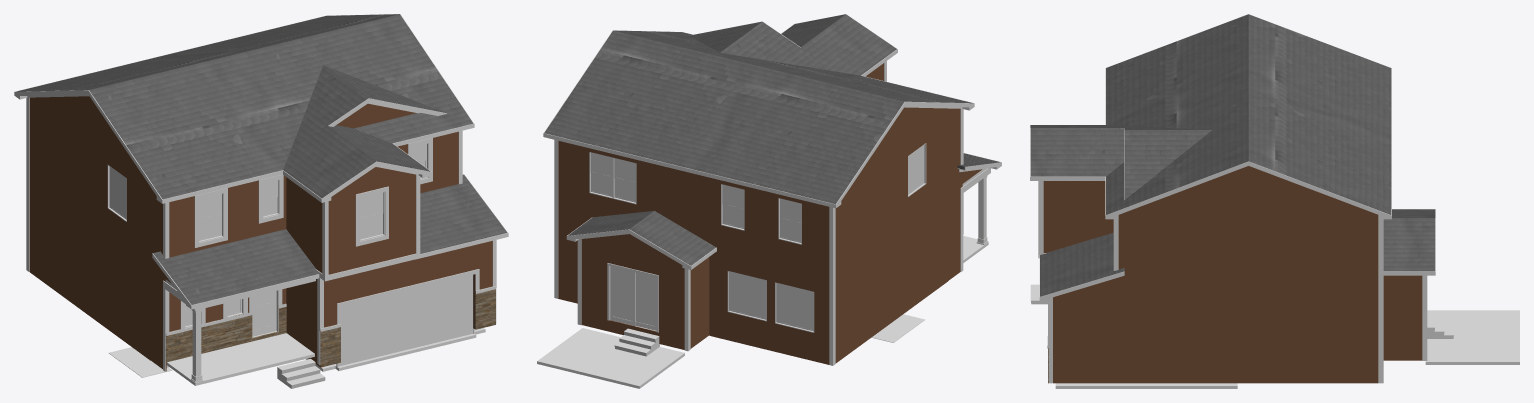
File: 235-1791-dm-traditional.glb
The picture shows the model from 3 angles, left to right: view 1: azimuth 30°, elevation 25°; view 2: azimuth 150°, elevation 25°; view 3: azimuth 270°, elevation 25°; orthographic projection. The views are drawn at different scales.
Visible parts, largest first — view 1: Basic Roof Wood Rafter 4" - Asphalt Shingle - Insulated_f643, Basic Wall BSB Exterior - Stud_3.5" - Sheathing_0.5" - _47e7, Basic Wall BSB Exterior - Stud_3.5" - Sheathing_0.5" - _ea36, BSB Exterior - Overhead Garage Door OGD - 16070 - Flush_84bb, Basic Roof Wood Rafter 4" - Asphalt Shingle - Insulated_5d0a, Basic Wall BSB Exterior - Stud_3.5" - Sheathing_0.5" - _5000, Basic Wall BSB Exterior - Stud_3.5" - Sheathing_0.5" - _244a, Basic Roof Wood Rafter 4" - Asphalt Shingle - Insulated_563c, Basic Wall BSB Exterior - Stud_3.5" - Sheathing_0.5" - _d862, Floor BSB Concrete Slab - 4" - Slope Option [4870198], Fascia Fascia-Flat 1x6 w/12" Soffit Bd [4993654], Trim - Corner Boards Trim - Corner Boards [4946476] (+28 smaller); view 2: Basic Roof Wood Rafter 4" - Asphalt Shingle - Insulated_f643, Basic Wall BSB Exterior - Stud_3.5" - Sheathing_0.5" - _07f2, Basic Wall BSB Exterior - Stud_3.5" - Sheathing_0.5" - _47e7, Basic Wall BSB Exterior - Stud_3.5" - Sheathing_0.5" - _ea36, Basic Wall BSB Exterior - Stud_3.5" - Sheathing_0.5" - _2d23, Basic Wall BSB Exterior - Stud_3.5" - Sheathing_0.5" - _a9b3, Floor BSB Concrete Slab - 4" - Slope Option [4913895], Trim - Corner Boards Trim - Corner Boards [4946476], Basic Roof Wood Rafter 4" - Asphalt Shingle - Insulated_96e2, BSB Exterior - SGD XO - 1-Lite 6068 [4874971], Fascia Fascia-Flat 1x6 w/12" Soffit Bd [4993654], Basic Roof Wood Rafter 4" - Asphalt Shingle - Insulated_8d6c (+17 smaller); view 3: Basic Roof Wood Rafter 4" - Asphalt Shingle - Insulated_f643, Basic Wall BSB Exterior - Stud_3.5" - Sheathing_0.5" - _c07a, Basic Wall BSB Exterior - Stud_3.5" - Sheathing_0.5" - _a325, Basic Wall BSB Exterior - Stud_3.5" - Sheathing_0.5" - _9540, Basic Wall BSB Exterior - Stud_3.5" - Sheathing_0.5" - _108d, Basic Wall BSB Exterior - Stud_1.5" - Sheathing_0.5" - _c5eb, Floor BSB Concrete Slab - 4" - Slope Option [4913895], Basic Wall BSB Exterior - Stud_3.5" - Sheathing_0.5" - _d08e, Basic Wall BSB Exterior - Stud_3.5" - Sheathing_0.5" - _6b2a, Basic Roof Wood Rafter 4" - Asphalt Shingle - Insulated_8d6c, Basic Roof Wood Rafter 4" - Asphalt Shingle - Insulated_96e2, Basic Roof Wood Rafter 4" - Asphalt Shingle - Insulated_563c (+7 smaller).
Part boxes in pixels (x1,y1,x2,y2): Basic Roof Wood Rafter 4" - Asphalt Shingle - Insulated_f643: (16, 14, 473, 199); Basic Wall BSB Exterior - Stud_3.5" - Sheathing_0.5" - _47e7: (29, 180, 150, 360); Basic Wall BSB Exterior - Stud_3.5" - Sheathing_0.5" - _ea36: (29, 98, 150, 267); BSB Exterior - Overhead Garage Door OGD - 16070 - Flush_84bb: (336, 275, 474, 366); Basic Roof Wood Rafter 4" - Asphalt Shingle - Insulated_5d0a: (153, 229, 318, 304); Basic Wall BSB Exterior - Stud_3.5" - Sheathing_0.5" - _5000: (328, 167, 415, 274); Basic Wall BSB Exterior - Stud_3.5" - Sheathing_0.5" - _244a: (318, 241, 492, 366); Basic Roof Wood Rafter 4" - Asphalt Shingle - Insulated_563c: (420, 174, 507, 253); Basic Wall BSB Exterior - Stud_3.5" - Sheathing_0.5" - _d862: (169, 175, 286, 257); Floor BSB Concrete Slab - 4" - Slope Option [4870198]: (166, 333, 314, 385); Fascia Fascia-Flat 1x6 w/12" Soffit Bd [4993654]: (15, 14, 473, 203); Trim - Corner Boards Trim - Corner Boards [4946476]: (26, 97, 496, 371); Basic Roof Wood Rafter 4" - Asphalt Shingle - Insulated_f643: (544, 14, 972, 204); Basic Wall BSB Exterior - Stud_3.5" - Sheathing_0.5" - _07f2: (558, 140, 829, 277); Basic Wall BSB Exterior - Stud_3.5" - Sheathing_0.5" - _47e7: (835, 195, 948, 363); Basic Wall BSB Exterior - Stud_3.5" - Sheathing_0.5" - _ea36: (835, 118, 948, 276); Basic Wall BSB Exterior - Stud_3.5" - Sheathing_0.5" - _2d23: (709, 251, 829, 364); Basic Wall BSB Exterior - Stud_3.5" - Sheathing_0.5" - _a9b3: (581, 239, 684, 349); Floor BSB Concrete Slab - 4" - Slope Option [4913895]: (537, 328, 684, 388); Trim - Corner Boards Trim - Corner Boards [4946476]: (554, 61, 963, 365); Basic Roof Wood Rafter 4" - Asphalt Shingle - Insulated_96e2: (568, 211, 715, 265); BSB Exterior - SGD XO - 1-Lite 6068 [4874971]: (607, 263, 658, 332); Fascia Fascia-Flat 1x6 w/12" Soffit Bd [4993654]: (543, 14, 973, 207); Basic Roof Wood Rafter 4" - Asphalt Shingle - Insulated_8d6c: (689, 21, 799, 62); Basic Roof Wood Rafter 4" - Asphalt Shingle - Insulated_f643: (1030, 14, 1391, 214); Basic Wall BSB Exterior - Stud_3.5" - Sheathing_0.5" - _c07a: (1148, 214, 1378, 293); Basic Wall BSB Exterior - Stud_3.5" - Sheathing_0.5" - _a325: (1240, 293, 1378, 383); Basic Wall BSB Exterior - Stud_3.5" - Sheathing_0.5" - _9540: (1053, 293, 1148, 383); Basic Wall BSB Exterior - Stud_3.5" - Sheathing_0.5" - _108d: (1148, 293, 1240, 383); Basic Wall BSB Exterior - Stud_1.5" - Sheathing_0.5" - _c5eb: (1121, 166, 1376, 214); Floor BSB Concrete Slab - 4" - Slope Option [4913895]: (1425, 310, 1519, 364); Basic Wall BSB Exterior - Stud_3.5" - Sheathing_0.5" - _d08e: (1043, 181, 1113, 252); Basic Wall BSB Exterior - Stud_3.5" - Sheathing_0.5" - _6b2a: (1383, 275, 1422, 360); Basic Roof Wood Rafter 4" - Asphalt Shingle - Insulated_8d6c: (1124, 128, 1211, 199); Basic Roof Wood Rafter 4" - Asphalt Shingle - Insulated_96e2: (1383, 209, 1435, 271); Basic Roof Wood Rafter 4" - Asphalt Shingle - Insulated_563c: (1040, 232, 1124, 296).
Bounding box in the file's own units: 11.32 × 9.15 × 15.87.
3 materials, 2 textured.
